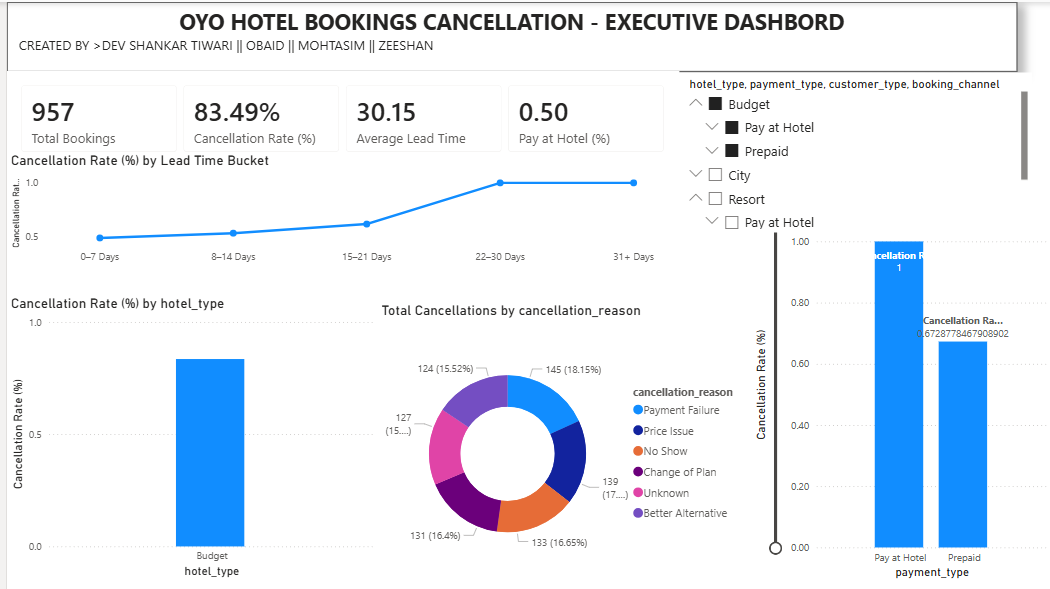

The dashboard page shown, as its layout file describes it:
{"tool":"powerbi","page":{"name":"Page 1","canvas":[1280,720],"ordinal":0},"visuals":[{"type":"textbox","box":[0,0,1237.8,85],"z":0},{"type":"cardVisual","fields":{"Data":["oyo_bookings_clean.Total Bookings","oyo_bookings_clean.Cancellation Rate (%)","oyo_bookings_clean.Average Lead Time","oyo_bookings_clean.Pay at Hotel (%)"]},"box":[0,85.1,824.1,116.1],"z":1000},{"type":"lineChart","fields":{"Category":["oyo_bookings_clean.Lead Time Bucket"],"Y":["oyo_bookings_clean.Cancellation Rate (%)"]},"box":[0,184,838,146],"z":2000},{"type":"clusteredColumnChart","fields":{"Category":["oyo_bookings_clean.payment_type"],"Y":["oyo_bookings_clean.Cancellation Rate (%)","select","select1"]},"box":[910,238,370,474],"z":3000},{"type":"columnChart","fields":{"Category":["oyo_bookings_clean.hotel_type"],"Y":["oyo_bookings_clean.Cancellation Rate (%)"]},"box":[0,359.2,454.9,351.4],"z":4000},{"type":"donutChart","fields":{"Category":["oyo_bookings_clean.cancellation_reason"],"Y":["oyo_bookings_clean.Total Cancellations"]},"box":[454,368,456,352],"z":5000},{"type":"slicer","fields":{"Values":["oyo_bookings_clean.hotel_type","oyo_bookings_clean.payment_type","oyo_bookings_clean.customer_type","oyo_bookings_clean.booking_channel"]},"box":[824,86,432,196],"z":6000}]}

Visuals, with their boxes in screenshot pixels (x1, y1, x2, y2), scaled from the page's 1280x720 canvas onto the 1050x589 screenshot:
textbox: <bbox>0, 0, 1015, 70</bbox>
cardVisual - oyo_bookings_clean.Total Bookings x oyo_bookings_clean.Cancellation Rate (%): <bbox>0, 70, 676, 165</bbox>
lineChart - oyo_bookings_clean.Lead Time Bucket x oyo_bookings_clean.Cancellation Rate (%): <bbox>0, 151, 687, 270</bbox>
clusteredColumnChart - oyo_bookings_clean.payment_type x oyo_bookings_clean.Cancellation Rate (%): <bbox>746, 195, 1049, 582</bbox>
columnChart - oyo_bookings_clean.hotel_type x oyo_bookings_clean.Cancellation Rate (%): <bbox>0, 294, 373, 581</bbox>
donutChart - oyo_bookings_clean.cancellation_reason x oyo_bookings_clean.Total Cancellations: <bbox>372, 301, 746, 588</bbox>
slicer - oyo_bookings_clean.hotel_type x oyo_bookings_clean.payment_type: <bbox>676, 70, 1030, 231</bbox>
